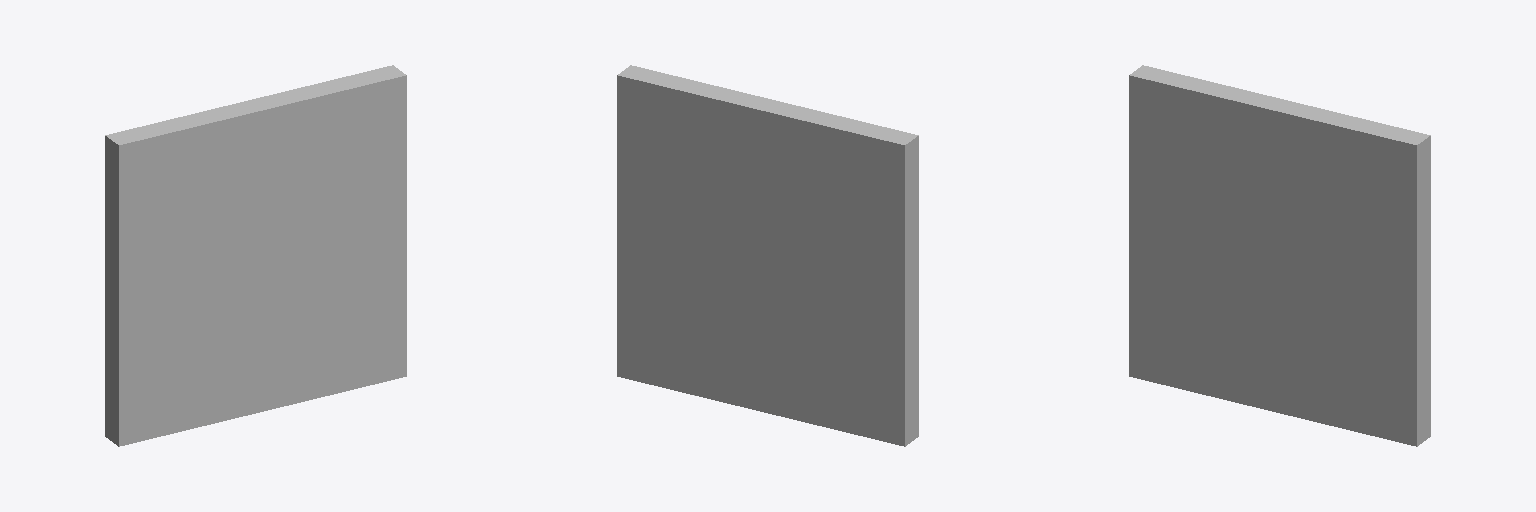
Rendered from teleporter_pad.obj.
3 views of the same model, side by side, from view 1: azimuth 30°, elevation 25°; view 2: azimuth 150°, elevation 25°; view 3: azimuth 330°, elevation 25° (orthographic).
Parts seen in each view (by area): view 1: co_culling; view 2: co_culling, c_convex_001; view 3: co_culling.
Boxes of the visible parts, x1,y1,x2,y2 form: co_culling: [105, 65, 406, 446]; co_culling: [617, 65, 918, 446]; c_convex_001: [636, 127, 885, 394]; co_culling: [1129, 65, 1430, 446].
Size of the model in its own units: 600 by 600 by 50.